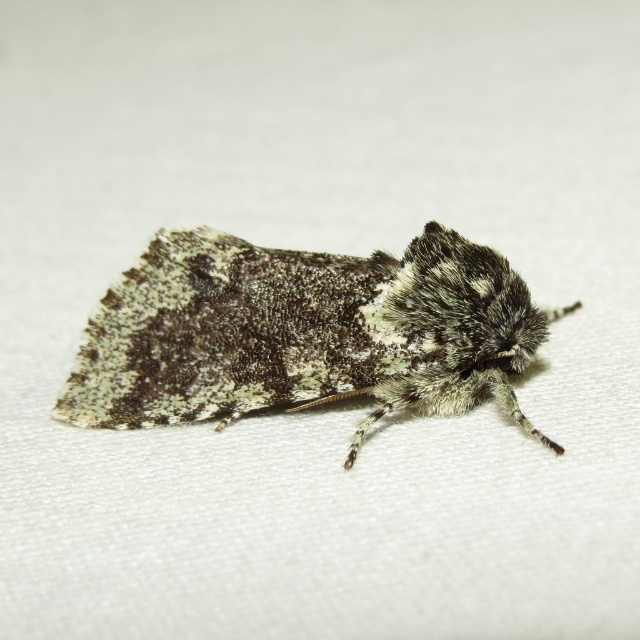Moths and butterflies: (46, 218, 584, 472)
